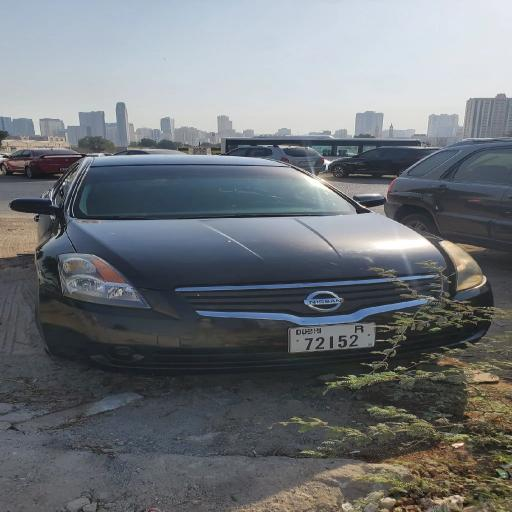license-plates: (288, 322, 376, 353)
